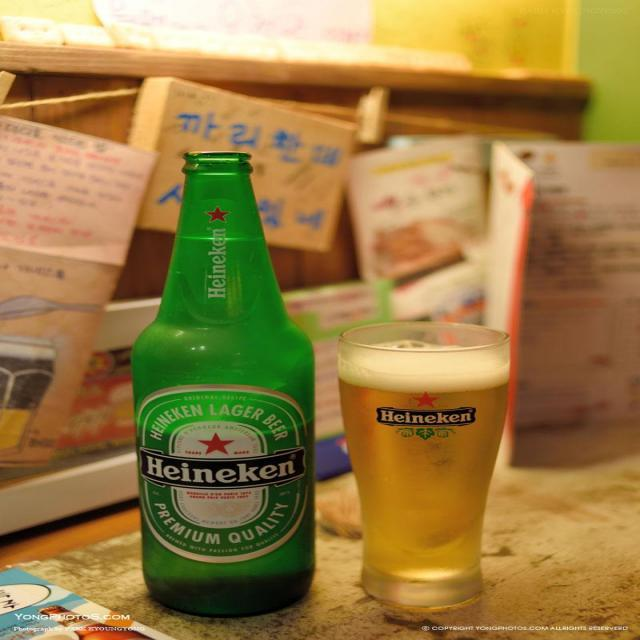beer-bottle: (108, 139, 330, 623)
